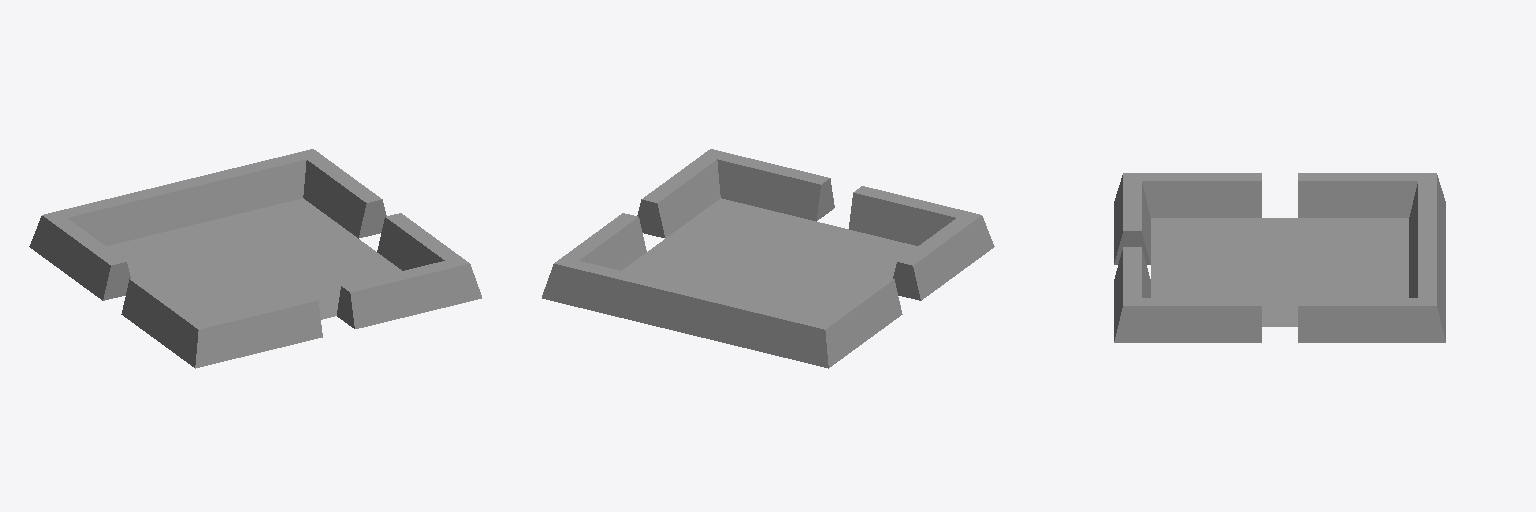
The model's file is sala_12.obj.
The picture shows the model from 3 angles: view 1: azimuth 30°, elevation 25°; view 2: azimuth 150°, elevation 25°; view 3: azimuth 270°, elevation 25°; orthographic projection.
Visible parts, largest first — view 1: Ground_Plane, Wall.006_Cube.016, Wall.004_Cube.015, Wall.001_Cube.012, Wall.003_Cube.010, Wall.002_Cube.014, Wall.000_Cube.011, Wall.005_Cube.002, Wall.007_Cube.017; view 2: Ground_Plane, Wall.003_Cube.010, Wall.001_Cube.012, Wall.006_Cube.016, Wall.005_Cube.002, Wall.004_Cube.015, Wall.007_Cube.017, Wall.002_Cube.014, Wall.000_Cube.011; view 3: Ground_Plane, Wall.000_Cube.011, Wall.007_Cube.017, Wall.005_Cube.002, Wall.002_Cube.014, Wall.004_Cube.015, Wall.003_Cube.010, Wall.001_Cube.012, Wall.006_Cube.016.
Part boxes in pixels (x1,y1,x2,y2): Ground_Plane: (106, 198, 401, 319); Wall.006_Cube.016: (337, 261, 481, 328); Wall.004_Cube.015: (195, 294, 322, 368); Wall.001_Cube.012: (178, 149, 312, 224); Wall.003_Cube.010: (44, 182, 190, 245); Wall.002_Cube.014: (29, 215, 130, 300); Wall.000_Cube.011: (303, 149, 386, 238); Wall.005_Cube.002: (121, 275, 204, 367); Wall.007_Cube.017: (377, 213, 468, 270); Ground_Plane: (622, 198, 917, 318); Wall.003_Cube.010: (685, 290, 828, 368); Wall.001_Cube.012: (542, 261, 697, 332); Wall.006_Cube.016: (711, 149, 834, 221); Wall.005_Cube.002: (893, 215, 994, 300); Wall.004_Cube.015: (849, 186, 979, 245); Wall.007_Cube.017: (637, 149, 720, 238); Wall.002_Cube.014: (819, 275, 902, 367); Wall.000_Cube.011: (555, 213, 646, 270); Ground_Plane: (1151, 218, 1408, 326); Wall.000_Cube.011: (1298, 298, 1445, 342); Wall.007_Cube.017: (1114, 298, 1261, 342); Wall.005_Cube.002: (1124, 173, 1261, 217); Wall.002_Cube.014: (1298, 173, 1435, 217); Wall.004_Cube.015: (1114, 173, 1150, 264); Wall.003_Cube.010: (1409, 173, 1445, 270); Wall.001_Cube.012: (1409, 239, 1445, 340); Wall.006_Cube.016: (1114, 247, 1150, 340).
Size of the model in its own units: 18 by 2 by 18.